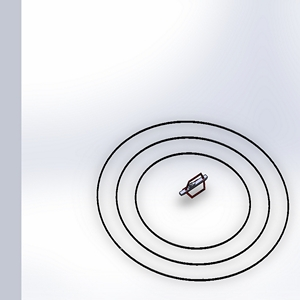circle: (90, 116, 299, 286)
submarine: (168, 168, 223, 210)
